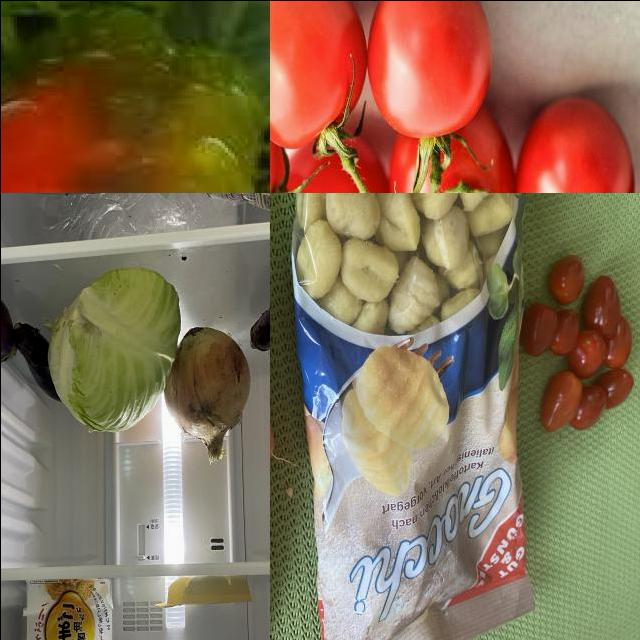bell_pepper: (1, 1, 270, 193)
cabbage: (49, 275, 183, 435)
eggplant: (12, 317, 59, 399), (1, 287, 16, 367)
onion: (156, 328, 249, 462)
tomato: (514, 245, 636, 447), (369, 1, 492, 142), (270, 1, 368, 163), (517, 98, 634, 193), (391, 108, 514, 193), (270, 133, 397, 193)
